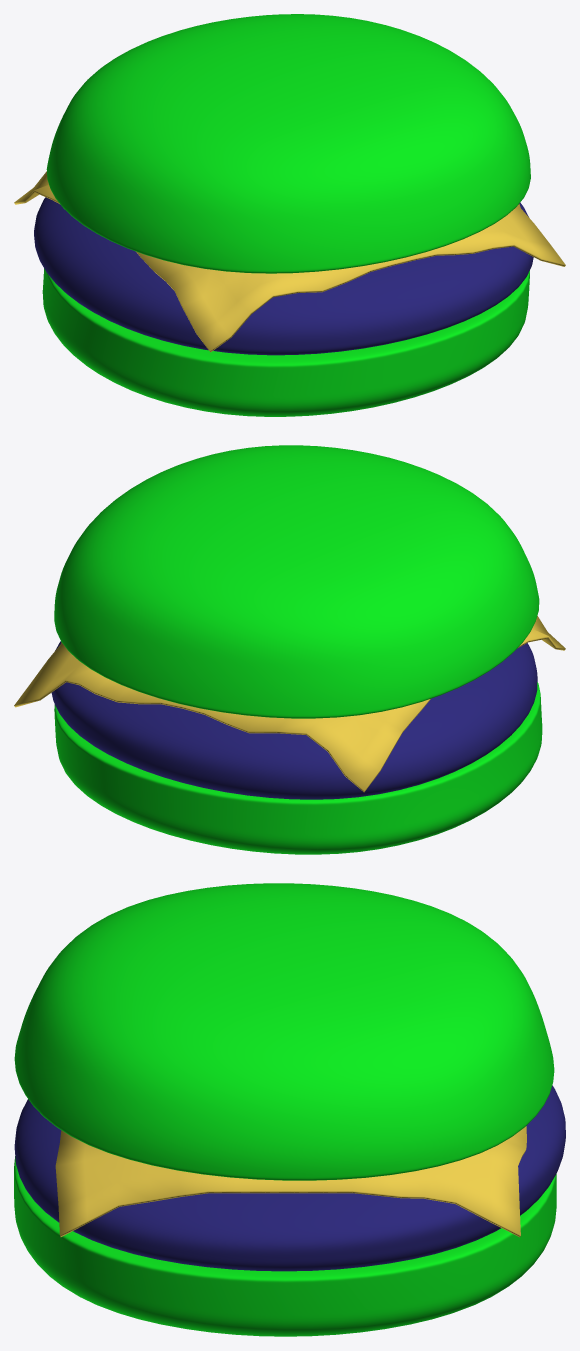
The model's file is burguer.glb.
3 views of the same model, one above another, from view 1: azimuth 30°, elevation 25°; view 2: azimuth 150°, elevation 25°; view 3: azimuth 270°, elevation 25° (orthographic). The views are drawn at different scales.
Parts seen in each view (by area): view 1: Cube.002, Cube.001, Cube, Plane; view 2: Cube.002, Cube.001, Cube, Plane; view 3: Cube.002, Cube, Cube.001, Plane.
Part boxes in pixels (box(x1,y1,x2,y2)): Cube.002: box(46, 14, 530, 273); Cube.001: box(34, 197, 533, 355); Cube: box(42, 268, 529, 416); Plane: box(14, 171, 565, 352); Cube.002: box(54, 445, 539, 718); Cube.001: box(51, 641, 537, 799); Cube: box(54, 682, 542, 854); Plane: box(14, 616, 565, 792); Cube.002: box(14, 883, 554, 1180); Cube: box(14, 1156, 556, 1336); Cube.001: box(14, 1085, 565, 1271); Plane: box(55, 1126, 526, 1237).
Bounding box in the file's own units: 1.87 × 1.17 × 1.86.
